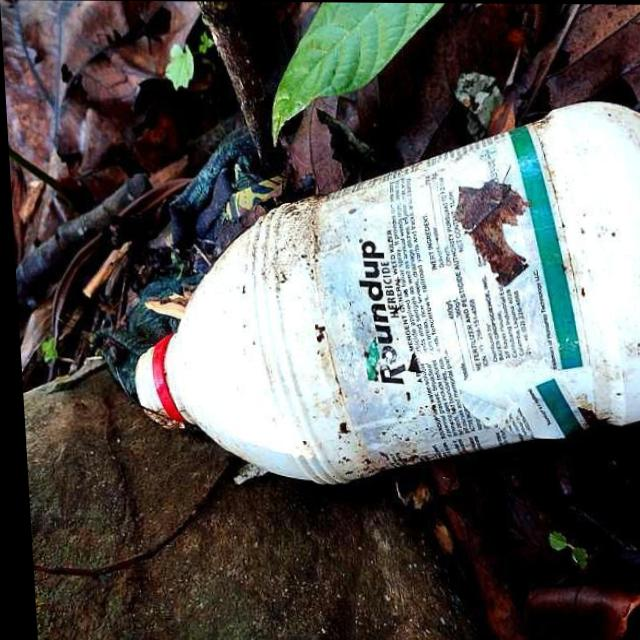Non-biodegradable: (121, 96, 640, 488)
